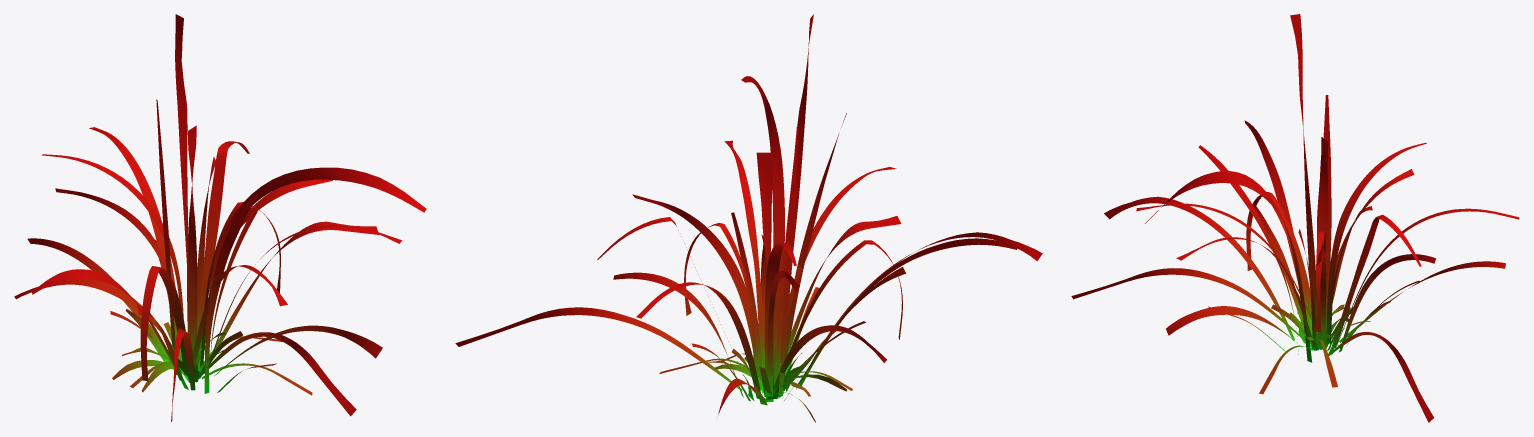
File: tdcnfcdr_Var3_LOD0.fbx
The picture shows the model from 3 angles, left to right: view 1: azimuth 30°, elevation 25°; view 2: azimuth 150°, elevation 25°; view 3: azimuth 270°, elevation 25°; orthographic projection. The views are drawn at different scales.
Visible parts, largest first — view 1: _162d_Var3_LOD0; view 2: _162d_Var3_LOD0; view 3: _162d_Var3_LOD0.
Boxes of the visible parts, left/top/right/bottom form: _162d_Var3_LOD0: left=14, top=14, right=426, bottom=421; _162d_Var3_LOD0: left=455, top=14, right=1042, bottom=422; _162d_Var3_LOD0: left=1071, top=14, right=1519, bottom=422.
Bounding box in the file's own units: 144 × 118 × 144.
